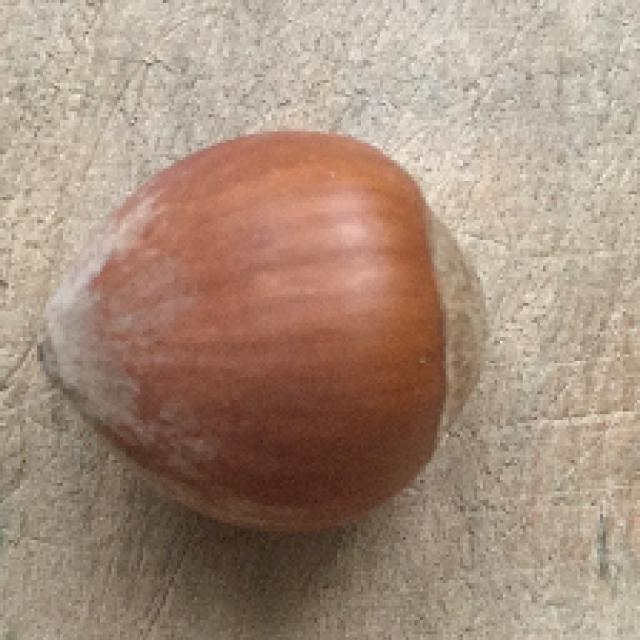qualityHazelnut: (42, 132, 498, 540)
